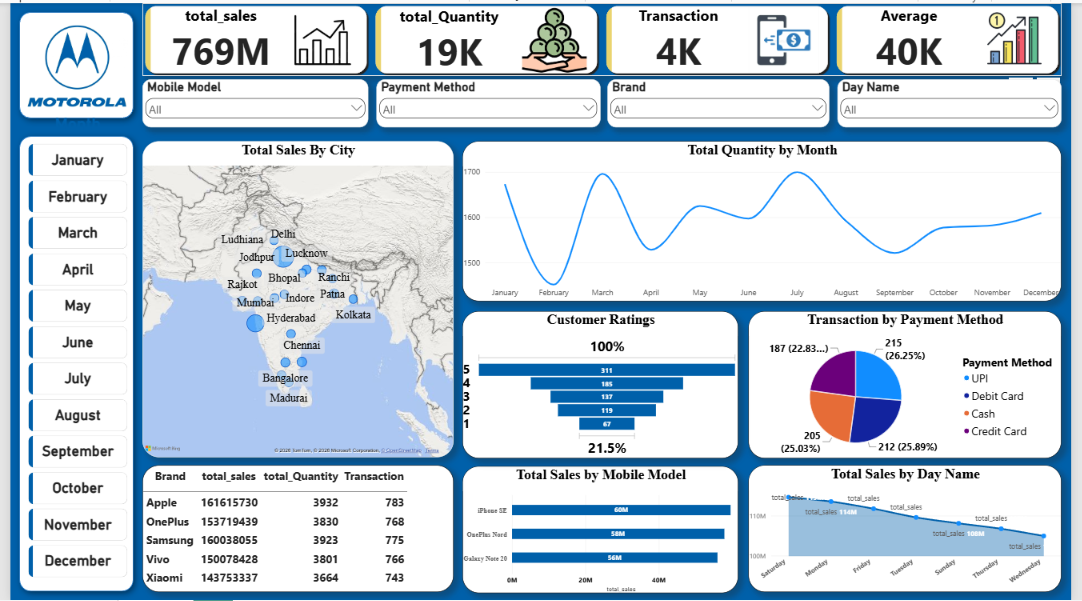

Layout of this report page (visuals, bound fields, positions):
{"tool":"powerbi","page":{"name":"Page 1","canvas":[1920,1080],"ordinal":0},"visuals":[{"type":"shape","box":[0,0,238.8,224.4],"z":0},{"type":"image","box":[28.8,24.7,183.2,177],"z":1000},{"type":"shape","box":[0,224.4,238.8,856.3],"z":2000},{"type":"advancedSlicerVisual","fields":{"Values":["Sales_Data.Date.Variation.Date Hierarchy.Month"]},"box":[32.9,201.7,179.1,846],"z":3000},{"type":"cardVisual","fields":{"Data":["Sales_Data.total_sales","Sales_Data.total_Quantity","Sales_Data.Transaction","Sales_Data.Average"]},"box":[238.9,0,1663.1,132.1],"z":4000},{"type":"map","title":"Total Sales By City","fields":{"Category":["Sales_Data.City"],"Size":["Sales_Data.total_sales"]},"box":[238.9,249.7,562.8,571.9],"z":5000},{"type":"lineChart","title":"Total Quantity by Month","fields":{"Y":["Sales_Data.total_Quantity"],"Category":["Sales_Data.Date.Variation.Date Hierarchy.Month","Sales_Data.Date.Variation.Date Hierarchy.Day"]},"box":[818,249.7,1084,289.5],"z":6000},{"type":"clusteredBarChart","title":"Total Sales by Mobile Model","fields":{"Category":["Sales_Data.Mobile Model"],"Y":["Sales_Data.total_sales"]},"box":[818,837.9,499.5,229.8],"z":7000},{"type":"pieChart","fields":{"Category":["Sales_Data.Payment Method"],"Y":["Sales_Data.Transaction"]},"box":[1335.5,557.4,566.4,266],"z":8000},{"type":"funnel","title":"Customer Ratings","fields":{"Category":["Sales_Data.Customer Ratings"],"Y":["CountNonNull(Sales_Data.Customer Ratings)"]},"box":[818,557.4,499.5,266],"z":9000},{"type":"areaChart","title":"Total Sales by Day Name","fields":{"Category":["Sales_Data.Day Name"],"Y":["Sales_Data.total_sales"]},"box":[1335.5,836.1,566.4,229.8],"z":10000},{"type":"tableEx","fields":{"Values":["Sales_Data.Brand","Sales_Data.total_sales","Sales_Data.total_Quantity","Sales_Data.Transaction"]},"box":[238.9,836.1,562.8,229.8],"z":11000},{"type":"slicer","fields":{"Values":["Sales_Data.Mobile Model"]},"box":[238.9,137.5,409,86.9],"z":12000},{"type":"slicer","fields":{"Values":["Sales_Data.Payment Method"]},"box":[662.3,137.5,405.4,86.9],"z":13000},{"type":"slicer","fields":{"Values":["Sales_Data.Brand"]},"box":[1080.4,137.5,401.7,86.9],"z":14000},{"type":"slicer","fields":{"Values":["Sales_Data.Day Name"]},"box":[1496.6,137.5,405.4,86.9],"z":15000}]}

Visuals, with their boxes in screenshot pixels (x1, y1, x2, y2), scaled from the page's 1920x1080 canvas onto the 1082x601 screenshot:
shape: x1=0 y1=0 x2=135 y2=125
image: x1=16 y1=14 x2=119 y2=112
shape: x1=0 y1=125 x2=135 y2=600
advancedSlicerVisual - Sales_Data.Date.Variation.Date Hierarchy.Month: x1=19 y1=112 x2=119 y2=583
cardVisual - Sales_Data.total_sales x Sales_Data.total_Quantity: x1=135 y1=0 x2=1072 y2=74
"Total Sales By City" map: x1=135 y1=139 x2=452 y2=457
"Total Quantity by Month" lineChart: x1=461 y1=139 x2=1072 y2=300
"Total Sales by Mobile Model" clusteredBarChart: x1=461 y1=466 x2=742 y2=594
pieChart - Sales_Data.Payment Method x Sales_Data.Transaction: x1=753 y1=310 x2=1072 y2=458
"Customer Ratings" funnel: x1=461 y1=310 x2=742 y2=458
"Total Sales by Day Name" areaChart: x1=753 y1=465 x2=1072 y2=593
tableEx - Sales_Data.Brand x Sales_Data.total_sales: x1=135 y1=465 x2=452 y2=593
slicer - Sales_Data.Mobile Model: x1=135 y1=77 x2=365 y2=125
slicer - Sales_Data.Payment Method: x1=373 y1=77 x2=602 y2=125
slicer - Sales_Data.Brand: x1=609 y1=77 x2=835 y2=125
slicer - Sales_Data.Day Name: x1=843 y1=77 x2=1072 y2=125
